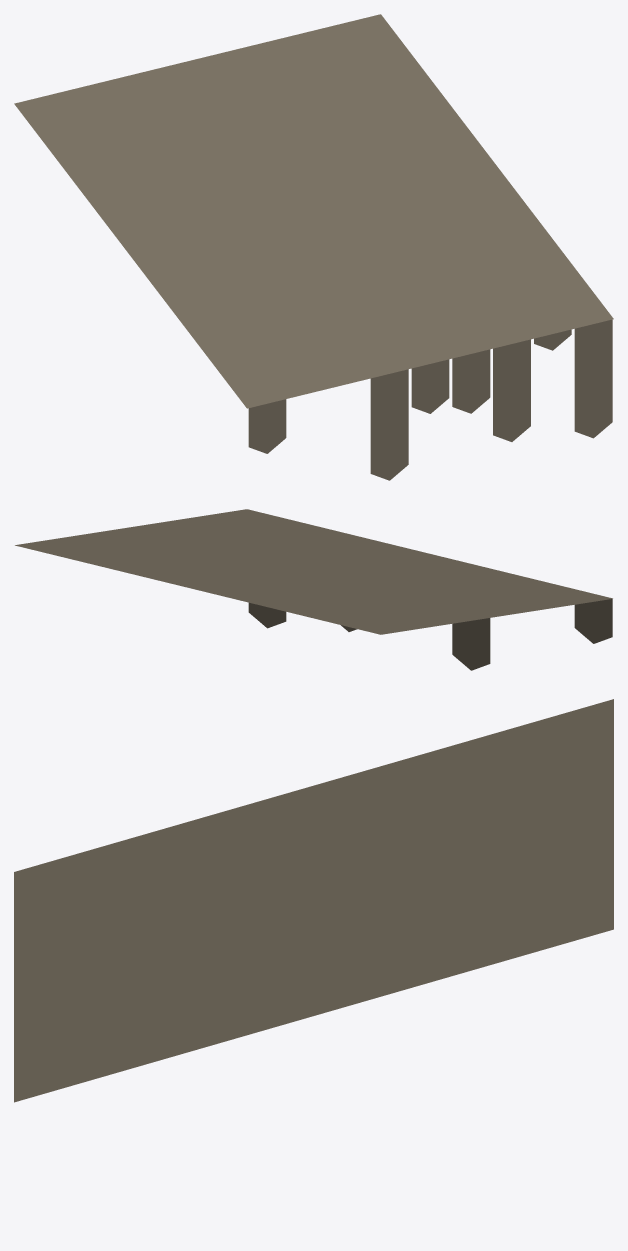
Rendered from SM_Souq_Awning2.fbx.
The picture shows the model from 3 angles, top to bottom: view 1: azimuth 30°, elevation 25°; view 2: azimuth 150°, elevation 25°; view 3: azimuth 270°, elevation 25°; orthographic projection. The views are drawn at different scales.
Parts seen in each view (by area): view 1: SM_Souq_Awning2; view 2: SM_Souq_Awning2; view 3: SM_Souq_Awning2.
Part boxes in pixels (box(x1,y1,x2,y2)): SM_Souq_Awning2: box(14, 14, 613, 480); SM_Souq_Awning2: box(15, 509, 612, 670); SM_Souq_Awning2: box(14, 699, 613, 1102).
Bounding box in the file's own units: 100 × 64.78 × 110.
1 material, 1 textured.
